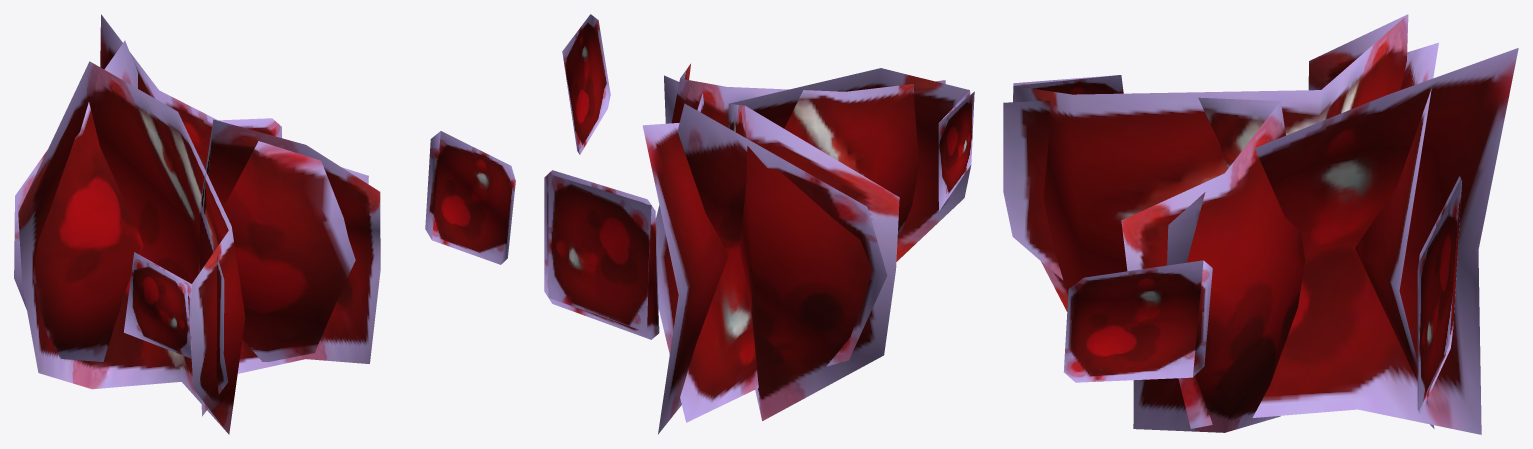
Rendered from Zombie_Broken_Nurse_Body_170c757d__Zombie_Broken_Purple_cee75a00_c1f257.obj.
The picture shows the model from 3 angles, left to right: view 1: azimuth 30°, elevation 25°; view 2: azimuth 150°, elevation 25°; view 3: azimuth 270°, elevation 25°; orthographic projection. The views are drawn at different scales.
Bounding box in the file's own units: 0.7545 × 0.5751 × 0.6939.
1 material, 1 textured.
